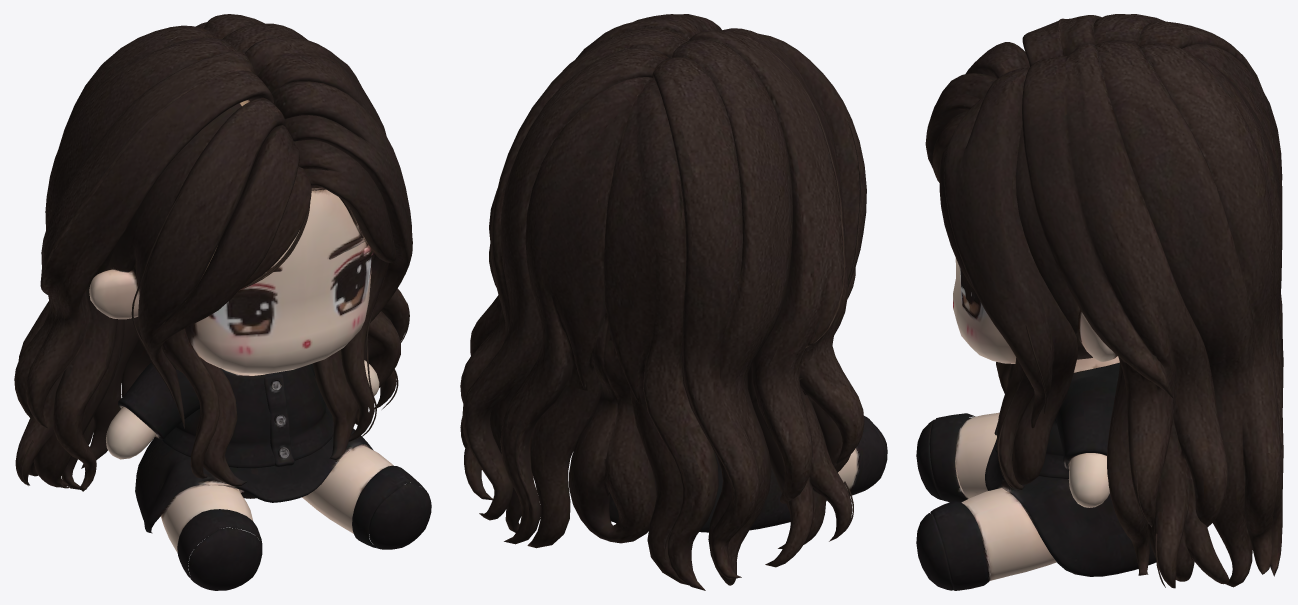
File: plush-doll.glb
The picture shows the model from 3 angles, left to right: view 1: azimuth 30°, elevation 25°; view 2: azimuth 150°, elevation 25°; view 3: azimuth 270°, elevation 25°; orthographic projection. The views are drawn at different scales.
Parts seen in each view (by area): view 1: PlushDoll; view 2: PlushDoll; view 3: PlushDoll.
Part boxes in pixels (left/top/right/bottom): PlushDoll: left=14, top=14, right=431, bottom=590; PlushDoll: left=460, top=14, right=887, bottom=590; PlushDoll: left=916, top=14, right=1283, bottom=590.
Size of the model in its own units: 0.8355 by 0.9995 by 0.6553.
Materials: 1 (1 with a texture image).
